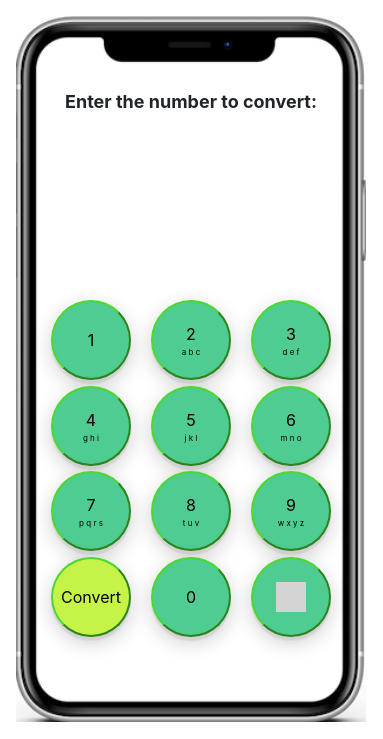
it: Test user interaction › It shows the number when the user press the numbers in the keyboard
Click the button "3 d e f".
click(291, 340)  # box [251, 300, 331, 380]
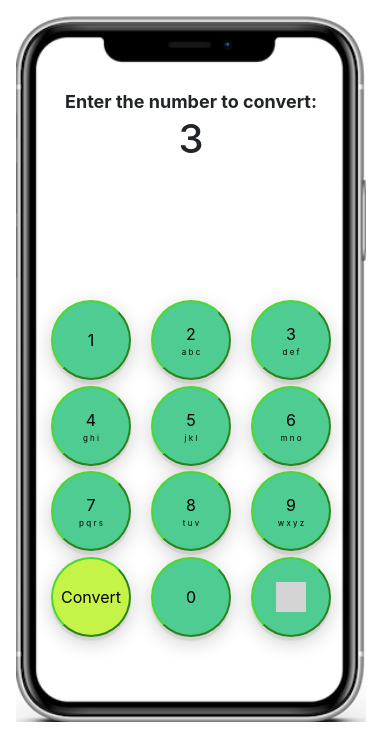
Click the button "2 a b c".
click(191, 340)  # box [151, 300, 231, 380]
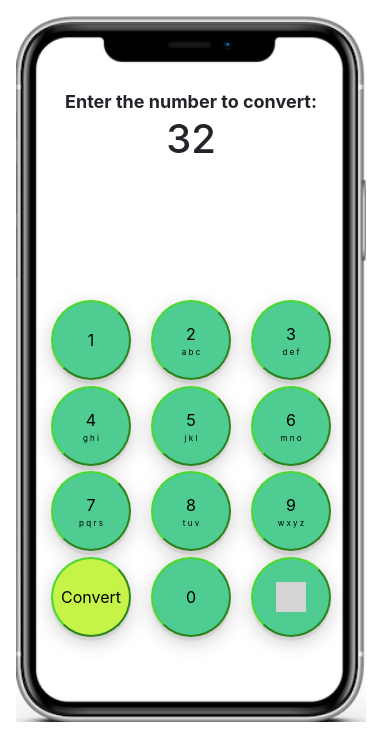
Check: the heading "32" is shown, box [166, 114, 216, 163]
